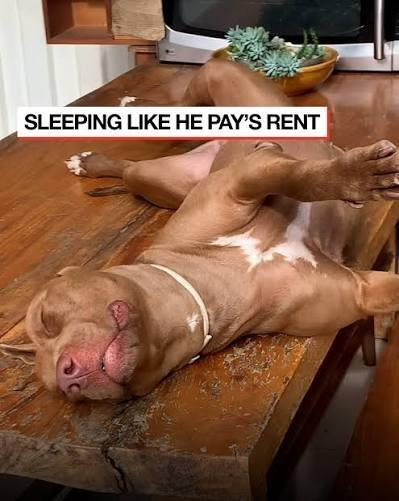adult_dog: (1, 54, 399, 406)
